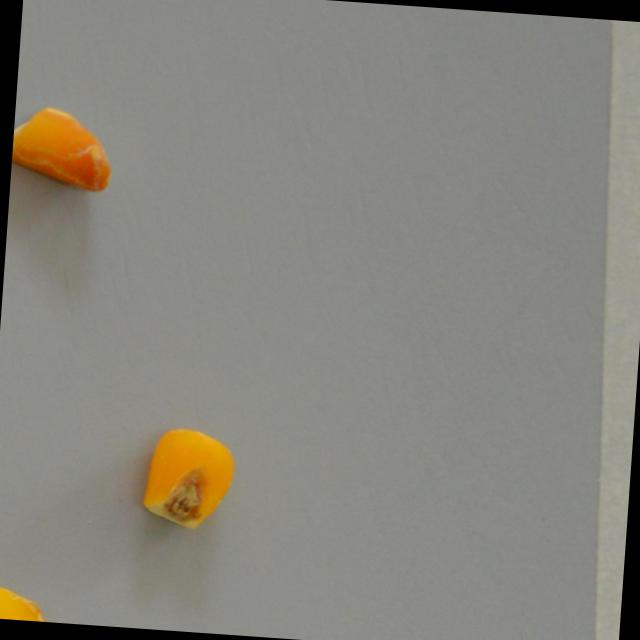dañado: (132, 421, 242, 536), (8, 100, 118, 201)
pelicula: (0, 586, 56, 622)
